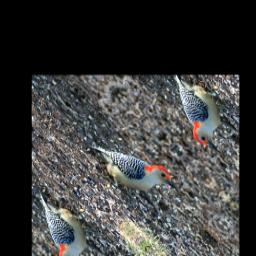Woodpecker: (78, 121, 183, 220)
